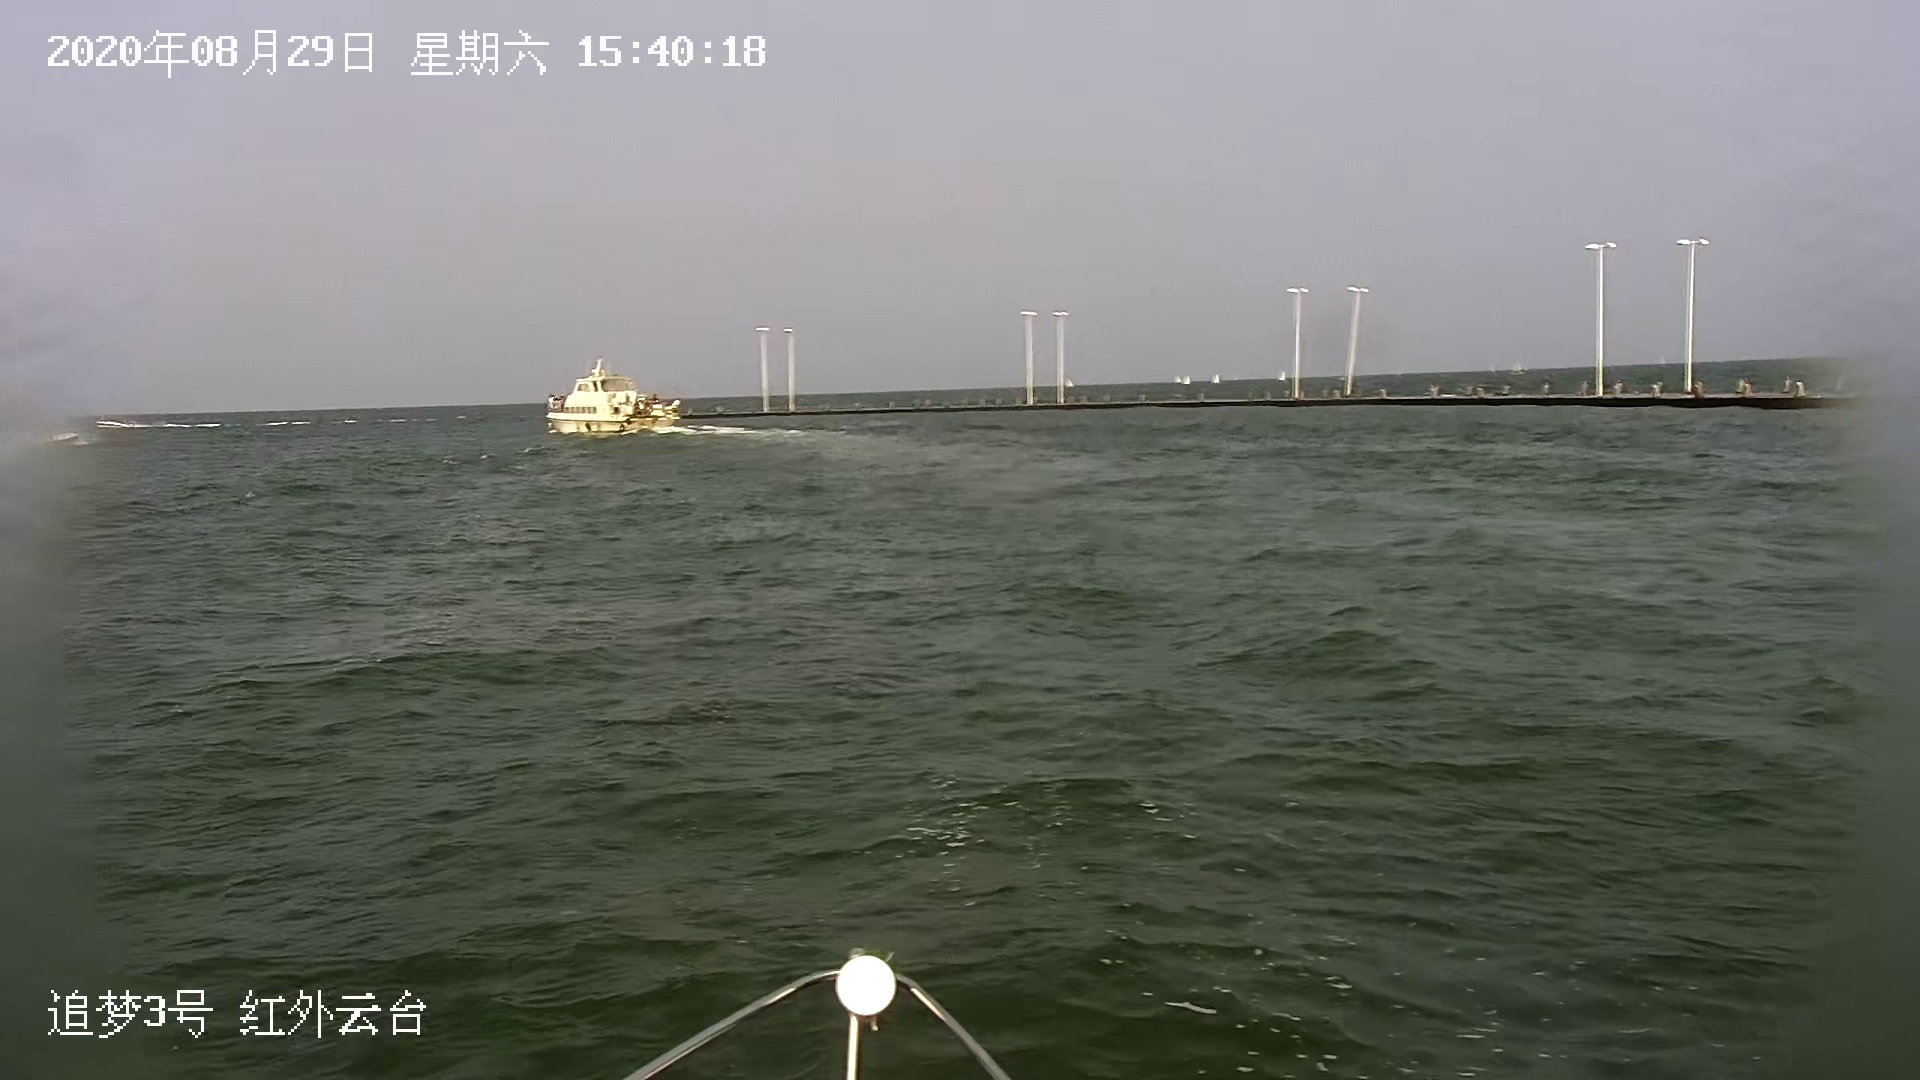barrier: (543, 353, 682, 435), (95, 418, 146, 433), (1174, 376, 1193, 386), (1276, 371, 1290, 385), (1209, 372, 1222, 385), (1065, 378, 1073, 390)
coast: (680, 236, 1871, 413), (1, 433, 87, 450)
